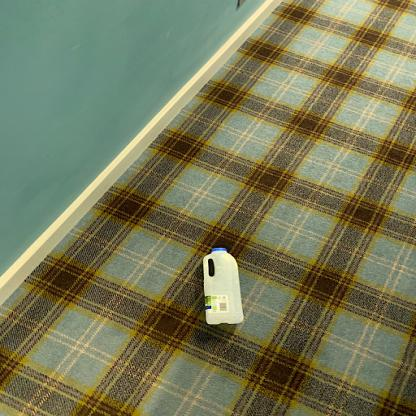trash: (201, 247, 247, 325)
